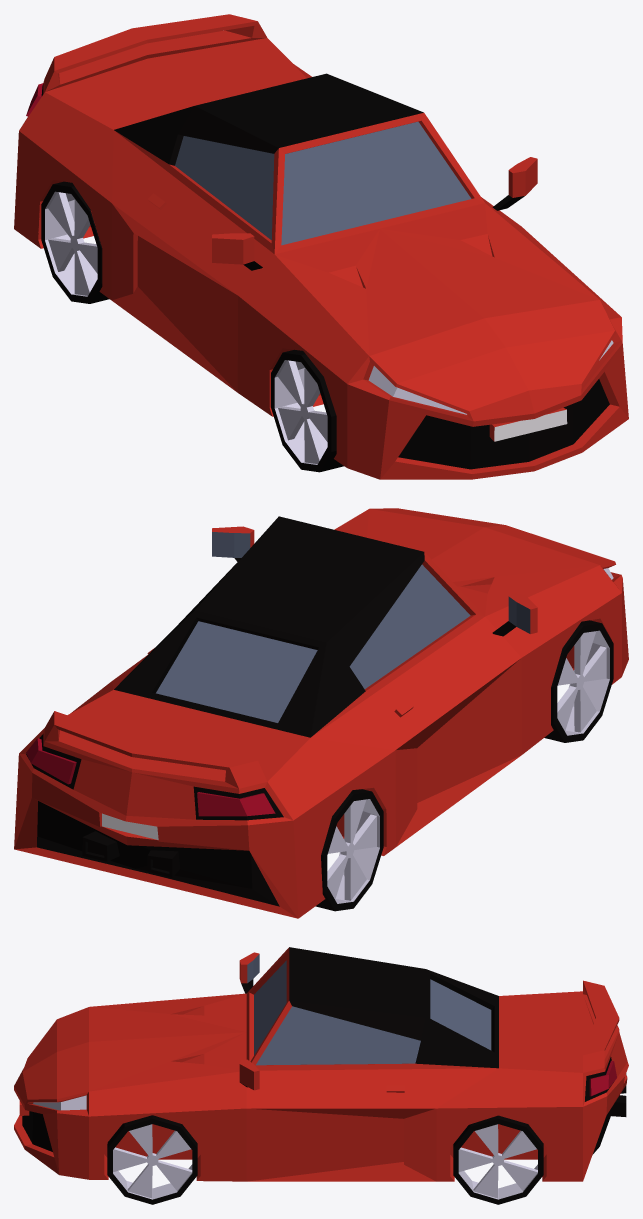
File: sedan_sports.glb
The picture shows the model from 3 angles, top to bottom: view 1: azimuth 30°, elevation 25°; view 2: azimuth 150°, elevation 25°; view 3: azimuth 270°, elevation 25°; orthographic projection. The views are drawn at different scales.
Parts seen in each view (by area): view 1: body; view 2: body; view 3: body.
Boxes of the visible parts, <box> form: body: <box>14,14,628,479</box>; body: <box>14,508,628,918</box>; body: <box>14,947,628,1204</box>.
Size of the model in its own units: 2.63 by 1.84 by 5.73.
